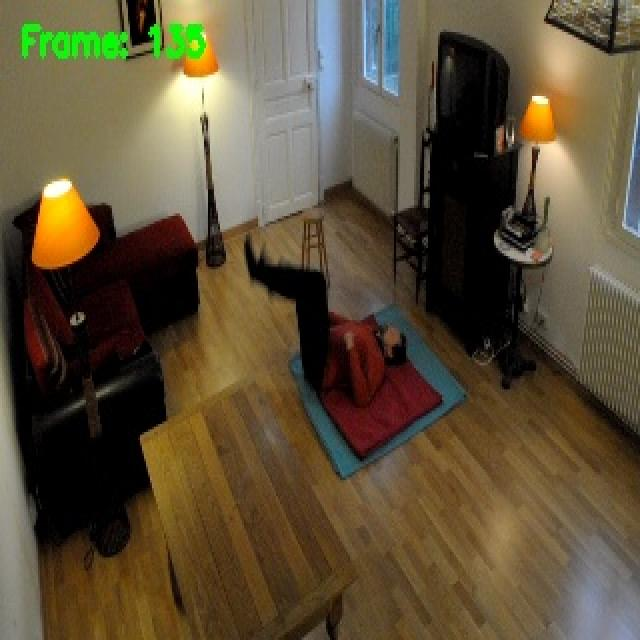Fall-Detected: (242, 227, 408, 403)
